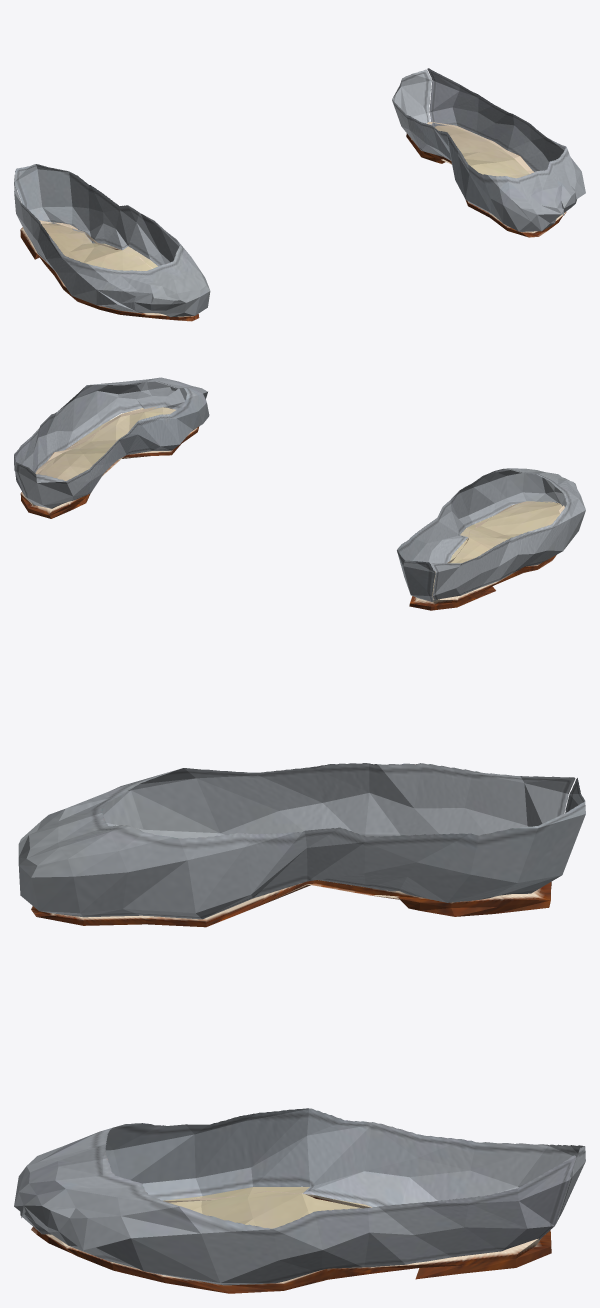
The model's file is mhw_dressupdoc_balletflat1.glb.
The picture shows the model from 3 angles, top to bottom: view 1: azimuth 30°, elevation 25°; view 2: azimuth 150°, elevation 25°; view 3: azimuth 270°, elevation 25°; orthographic projection. The views are drawn at different scales.
Parts seen in each view (by area): view 1: mhw_dressupdoc_balletflat1; view 2: mhw_dressupdoc_balletflat1; view 3: mhw_dressupdoc_balletflat1.
Part boxes in pixels (box(x1,y1,x2,y2)): mhw_dressupdoc_balletflat1: box(14, 68, 585, 321); mhw_dressupdoc_balletflat1: box(14, 377, 585, 610); mhw_dressupdoc_balletflat1: box(14, 763, 585, 1293).
Bounding box in the file's own units: 0.5392 × 0.1377 × 0.2873.
1 material, 1 textured.
